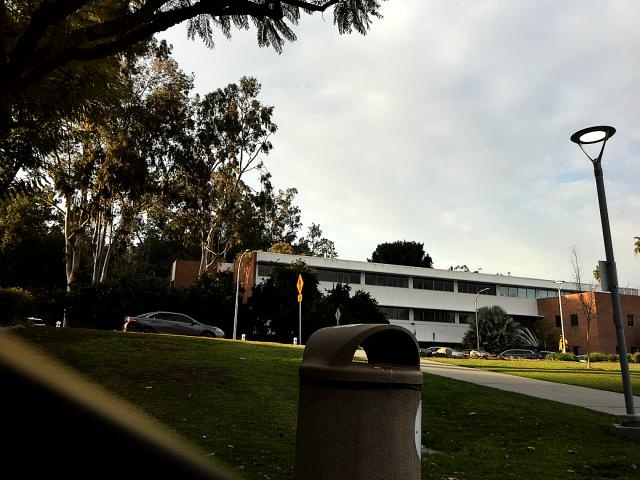trashcan: (290, 315, 436, 480)
